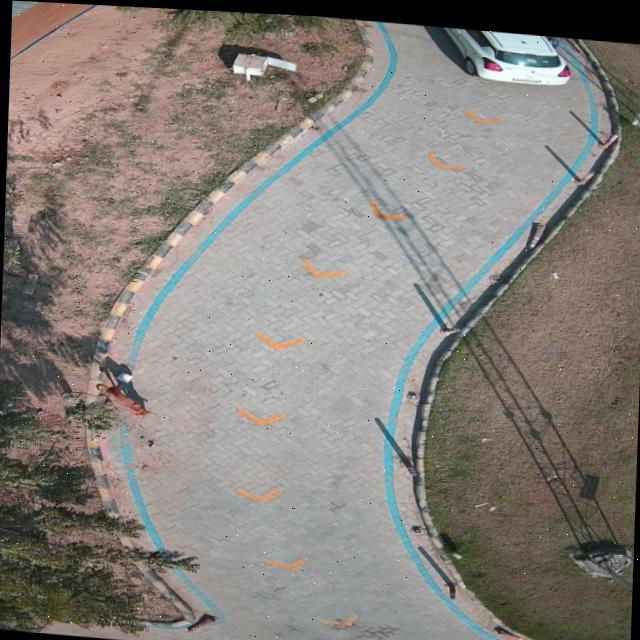car: (442, 23, 570, 79)
